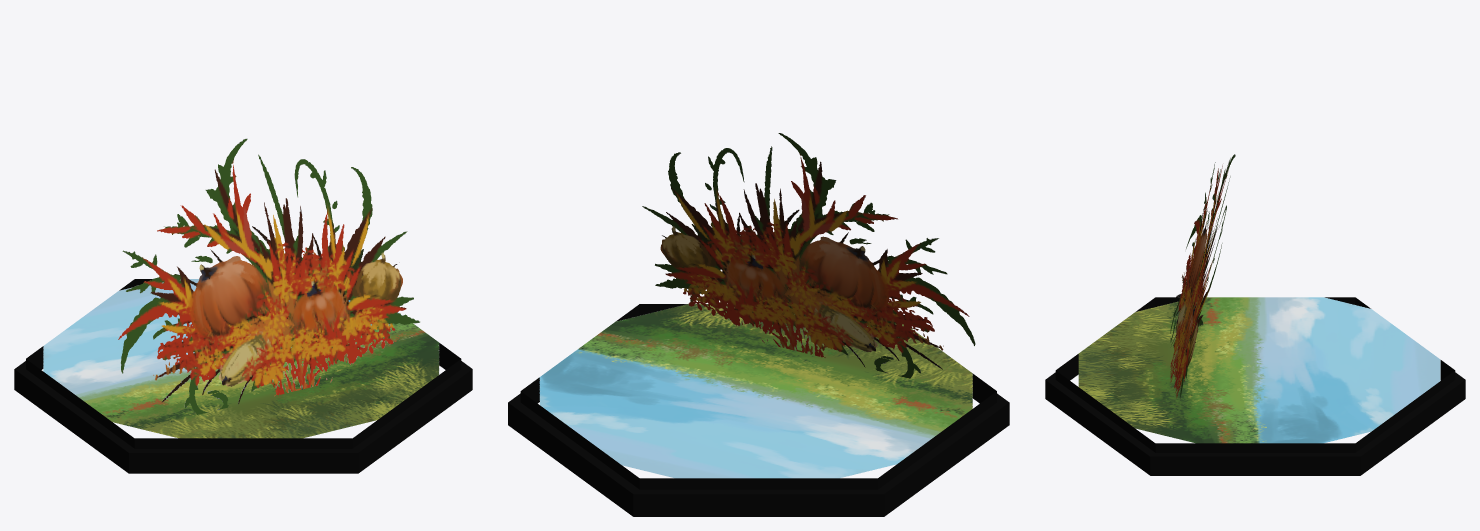
The model's file is hex.fbx.
3 views of the same model, side by side, from view 1: azimuth 30°, elevation 25°; view 2: azimuth 150°, elevation 25°; view 3: azimuth 270°, elevation 25° (orthographic). The views are drawn at different scales.
Parts seen in each view (by area): view 1: Tile, Billboard; view 2: Tile, Billboard; view 3: Tile, Billboard.
Boxes of the visible parts, <box> form: Tile: <box>14,279,472,473</box>; Billboard: <box>118,138,419,414</box>; Tile: <box>508,304,1009,516</box>; Billboard: <box>642,133,975,378</box>; Tile: <box>1045,297,1465,475</box>; Billboard: <box>1170,154,1235,399</box>.
Size of the model in its own units: 180 by 180 by 200.
